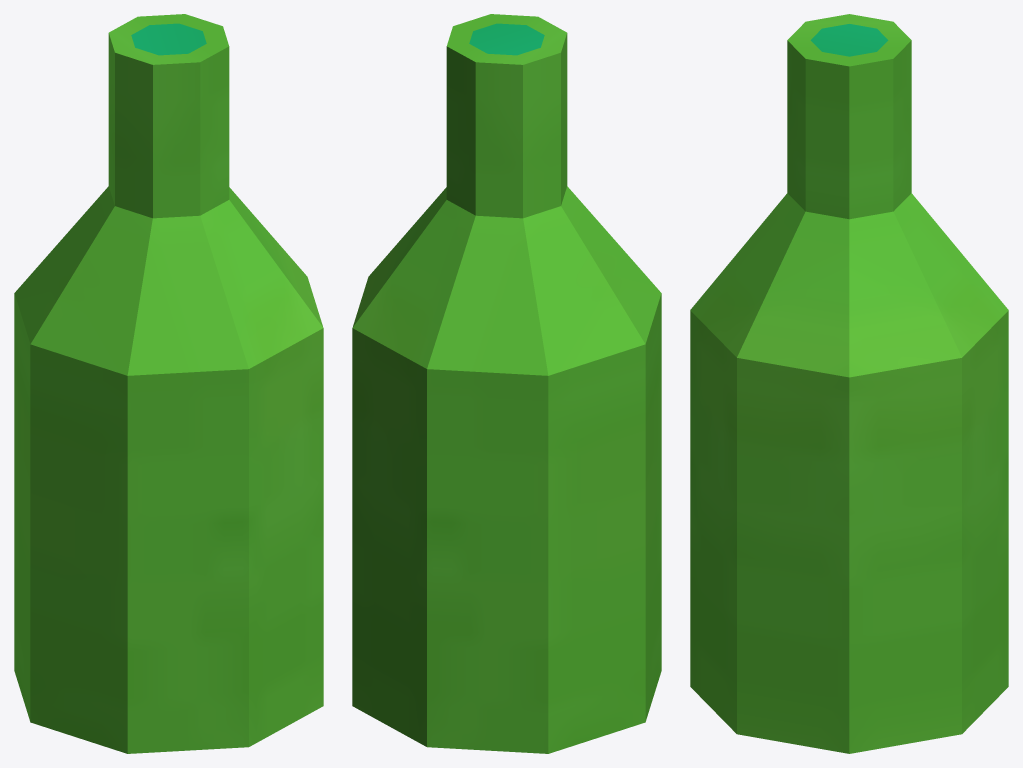
Rendered from bottle.fbx.
3 renders of one model, left to right at view 1: azimuth 30°, elevation 25°; view 2: azimuth 150°, elevation 25°; view 3: azimuth 270°, elevation 25°, orthographic.
Parts seen in each view (by area): view 1: bottle; view 2: bottle; view 3: bottle.
Part boxes in pixels (left/top/right/bottom): bottle: left=14, top=14, right=323, bottom=753; bottle: left=352, top=14, right=661, bottom=753; bottle: left=690, top=14, right=1008, bottom=753.
Bounding box in the file's own units: 56.51 × 127 × 56.51.
Materials: 1 (1 with a texture image).
